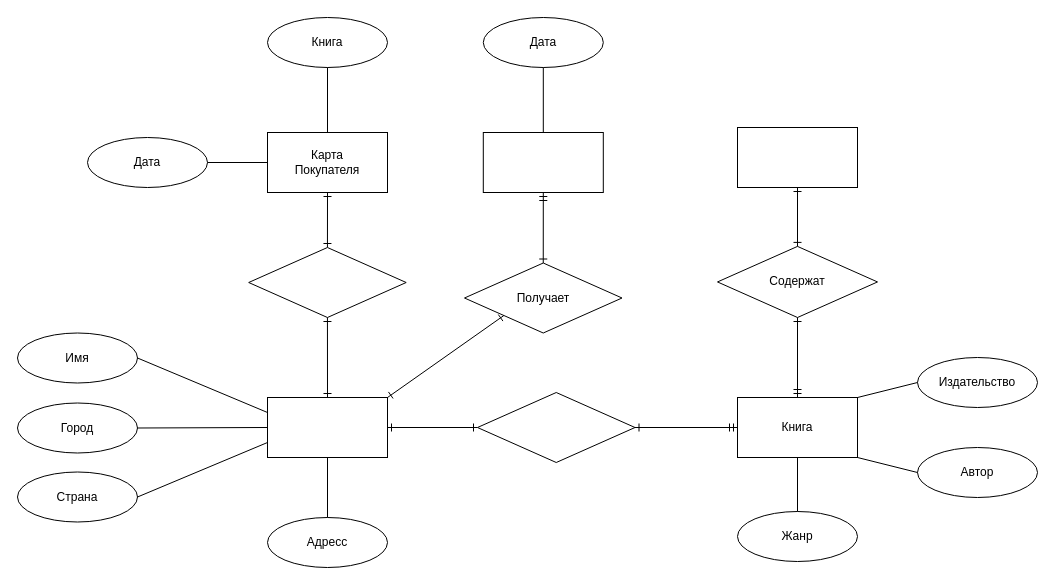
Some shapes in this 1055 by 585 pixel diagram are drawn without their labels. The centre of each missing label's shape, as x and y in pixels:
"Библиотека" belongs at point (797, 157).
"Имеет" belongs at point (327, 282).
"Покупает" belongs at point (555, 427).
"Покупатель" belongs at point (327, 427).
"Чек" belongs at point (542, 162).
